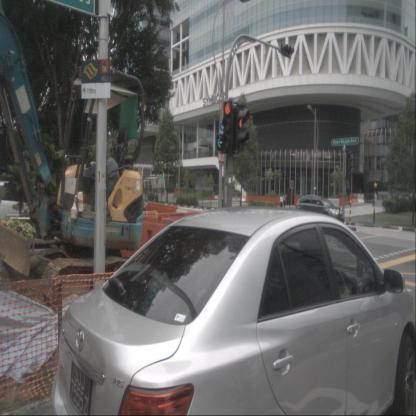human-pedestrian-adult: (372, 192, 377, 206), (279, 194, 283, 210), (283, 193, 286, 209)
movable_object-barrier: (142, 219, 169, 264), (157, 213, 198, 238), (145, 201, 178, 223), (176, 206, 200, 223), (349, 194, 358, 204), (357, 193, 365, 203)
vehicle-car: (57, 204, 415, 415), (295, 193, 345, 232)
